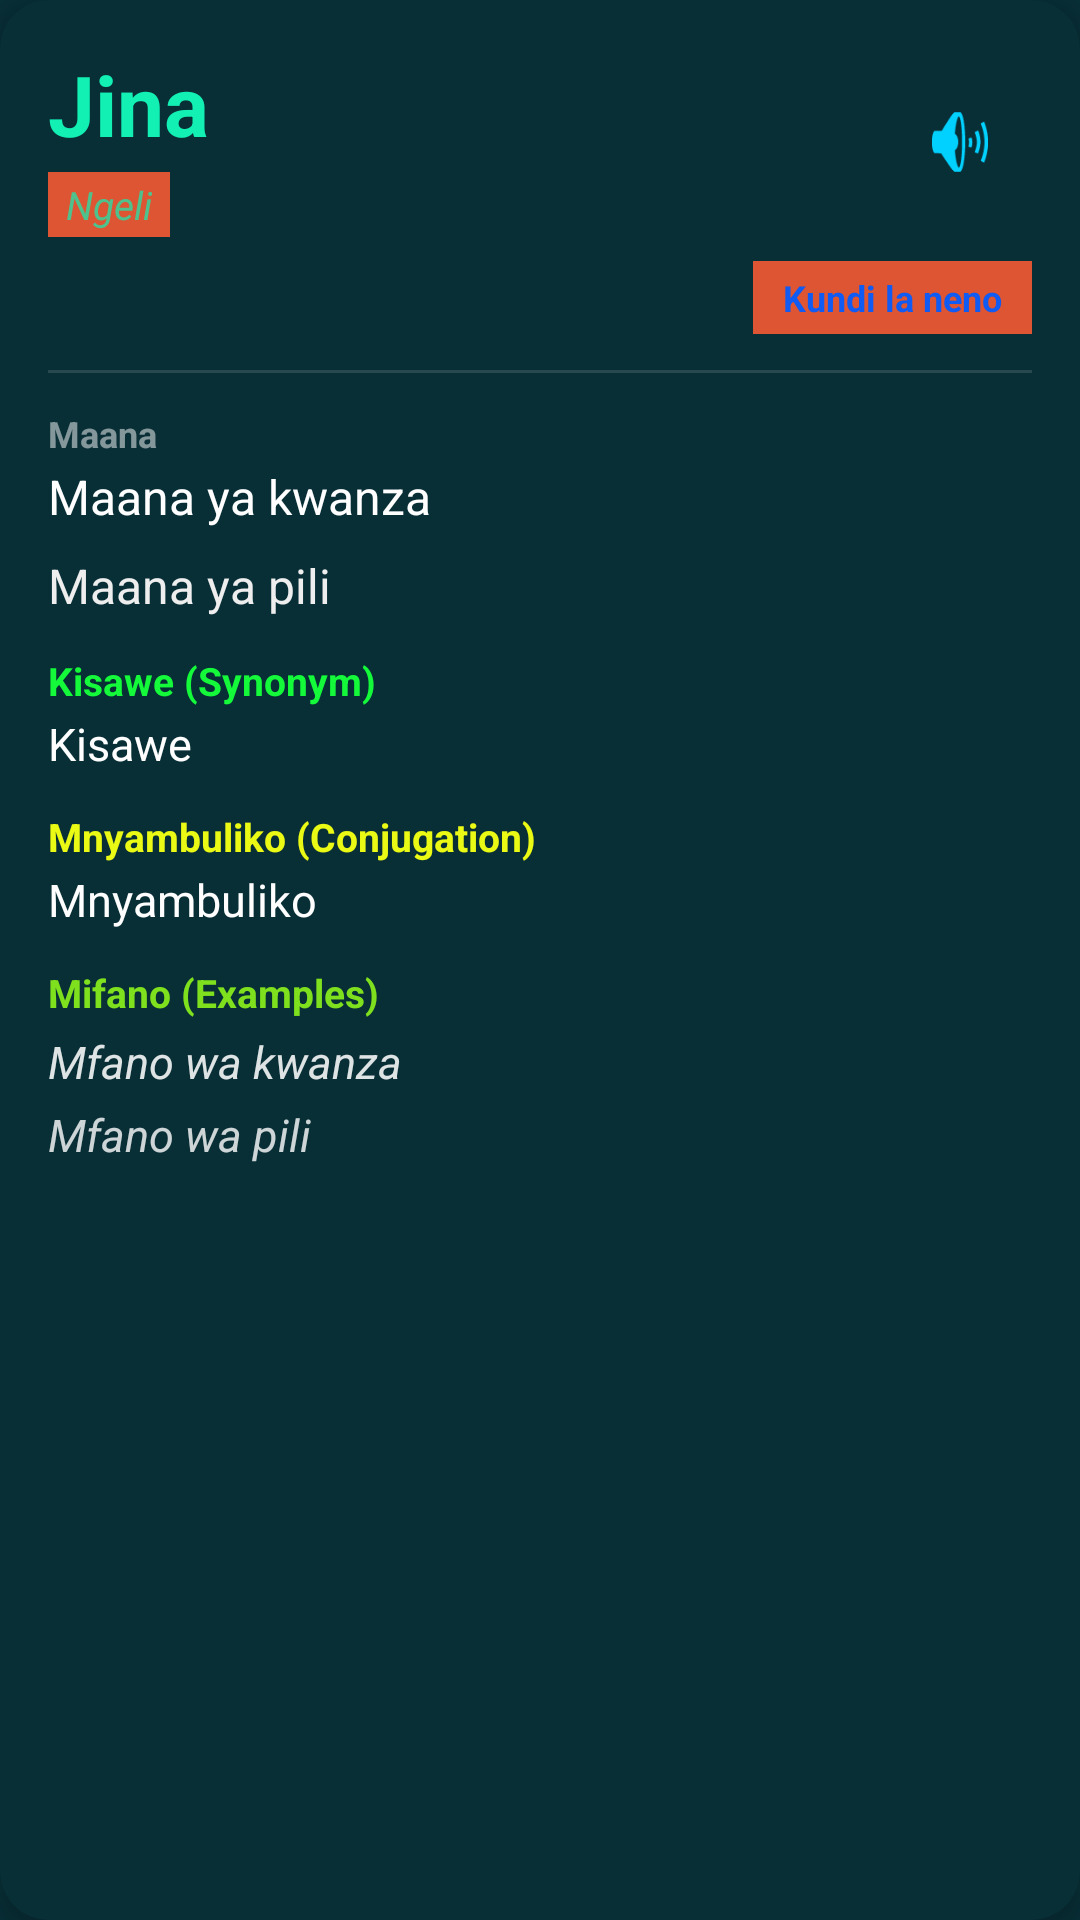

Where to tap for icons on this 1080px×1920px app screen, as (x=x, y=y):
Sikiliza Sauti (TTS): (x=960, y=142)
